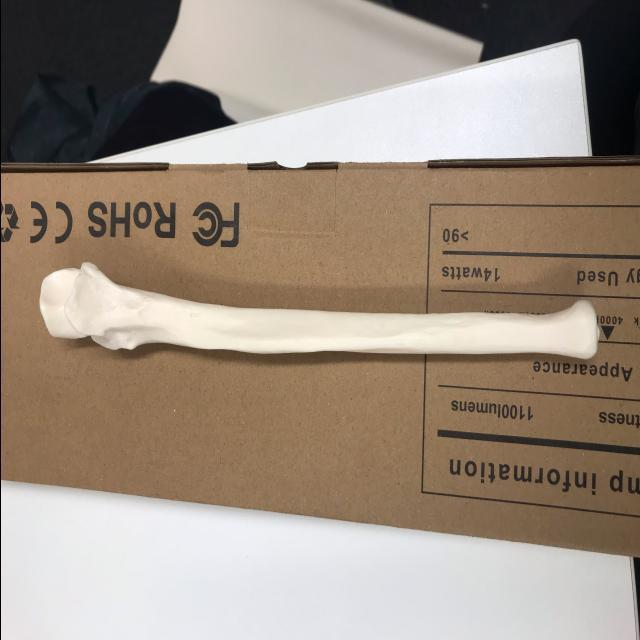bone: (34, 259, 602, 367)
